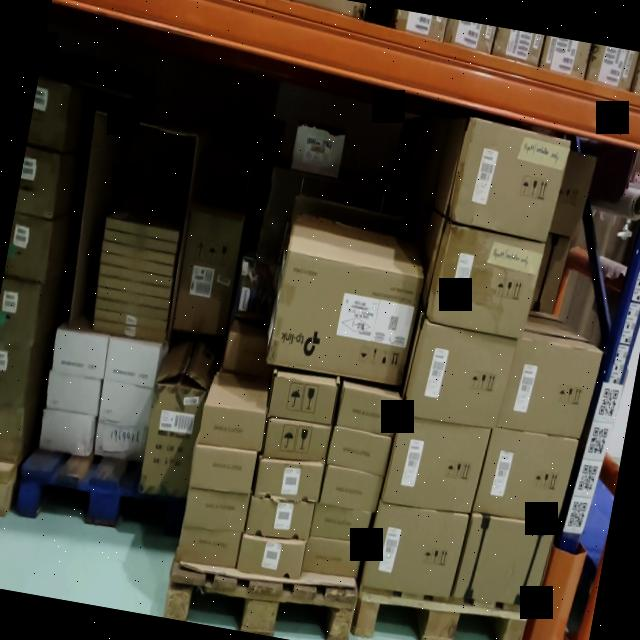box: (268, 250, 420, 387), (451, 116, 570, 236), (432, 227, 541, 337), (409, 321, 516, 430), (498, 342, 602, 435), (360, 509, 470, 595), (477, 429, 576, 524), (382, 424, 489, 511), (458, 517, 555, 609), (174, 208, 243, 334), (140, 392, 208, 498), (238, 532, 306, 584), (268, 372, 338, 421), (334, 384, 398, 434), (252, 462, 320, 508), (262, 419, 328, 466), (48, 330, 110, 380), (200, 408, 266, 454), (326, 428, 392, 473), (104, 334, 163, 384), (320, 468, 383, 514), (177, 524, 242, 568), (185, 488, 248, 532), (190, 449, 254, 492), (45, 373, 104, 417), (311, 504, 367, 549), (96, 384, 156, 424), (40, 409, 96, 450), (94, 422, 149, 461), (302, 546, 360, 582)
